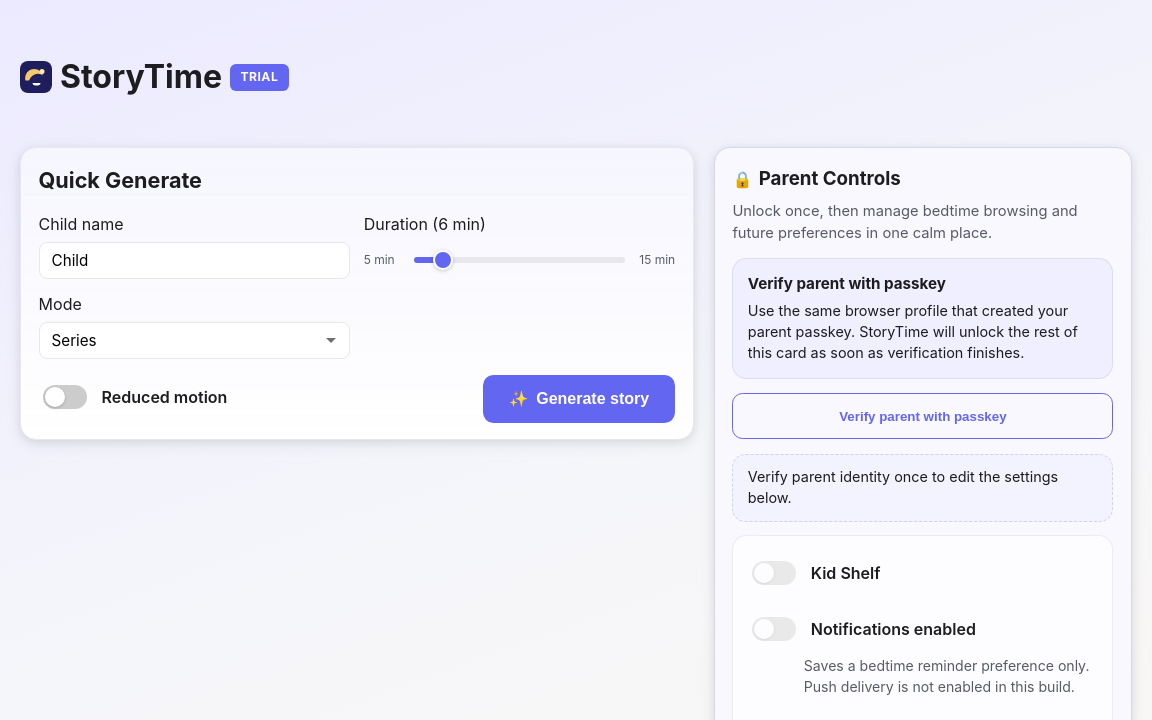
Test case: App › disables poster parallax animation when reduced motion is on
The image size is (1152, 720).
Click the checkbox labelled "Reduced motion".
click(65, 397)  # box [43,385,87,409]
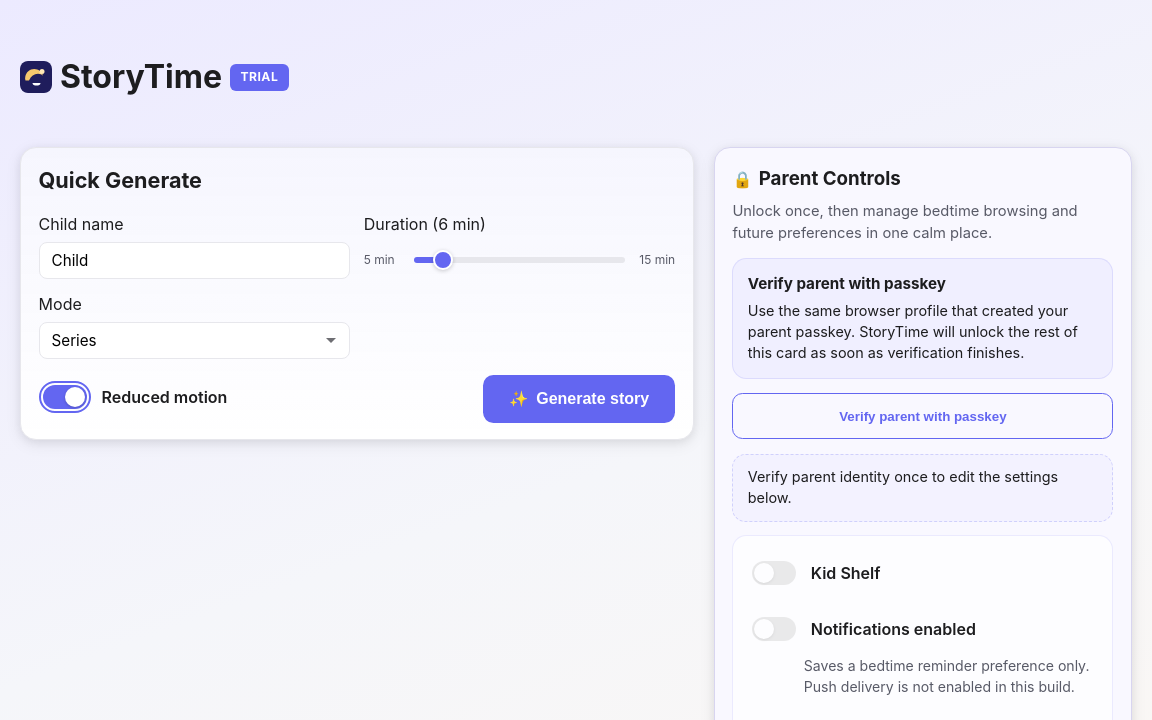
Click the button "✨ Generate story".
click(579, 399)  # box [483,375,675,423]
(page scrolled)
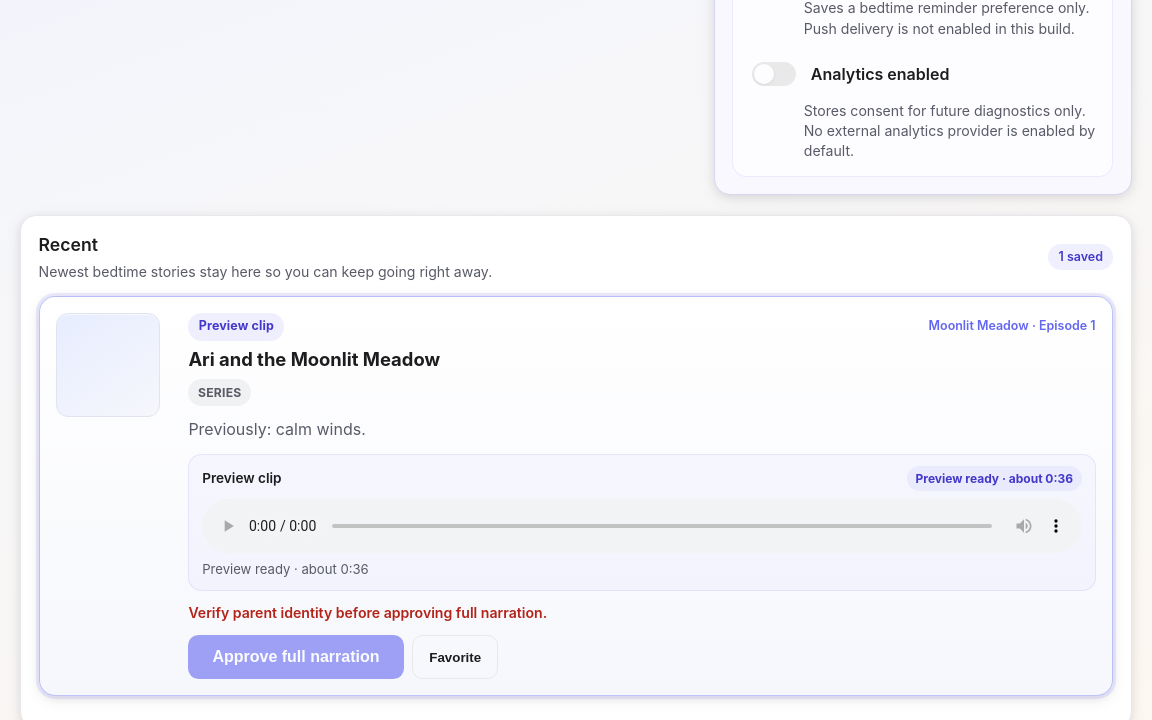
Check: the text "Ari and the Moonlit Meadow" is shown, box [188,348,440,370]
